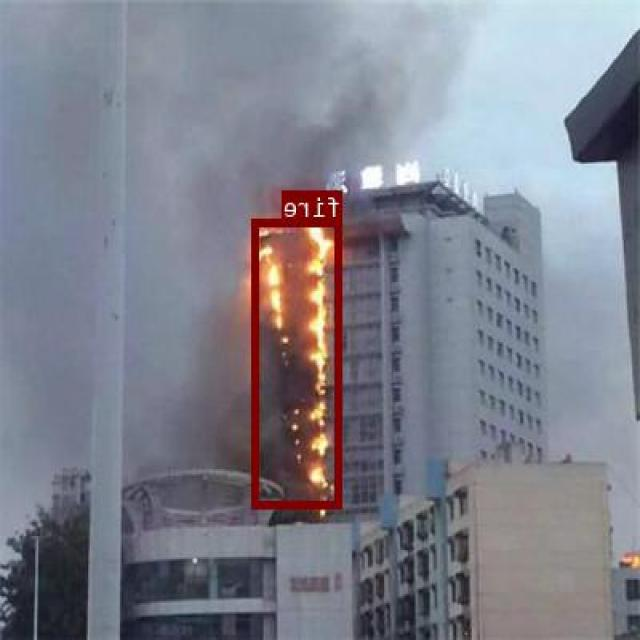fire: (254, 218, 343, 506)
